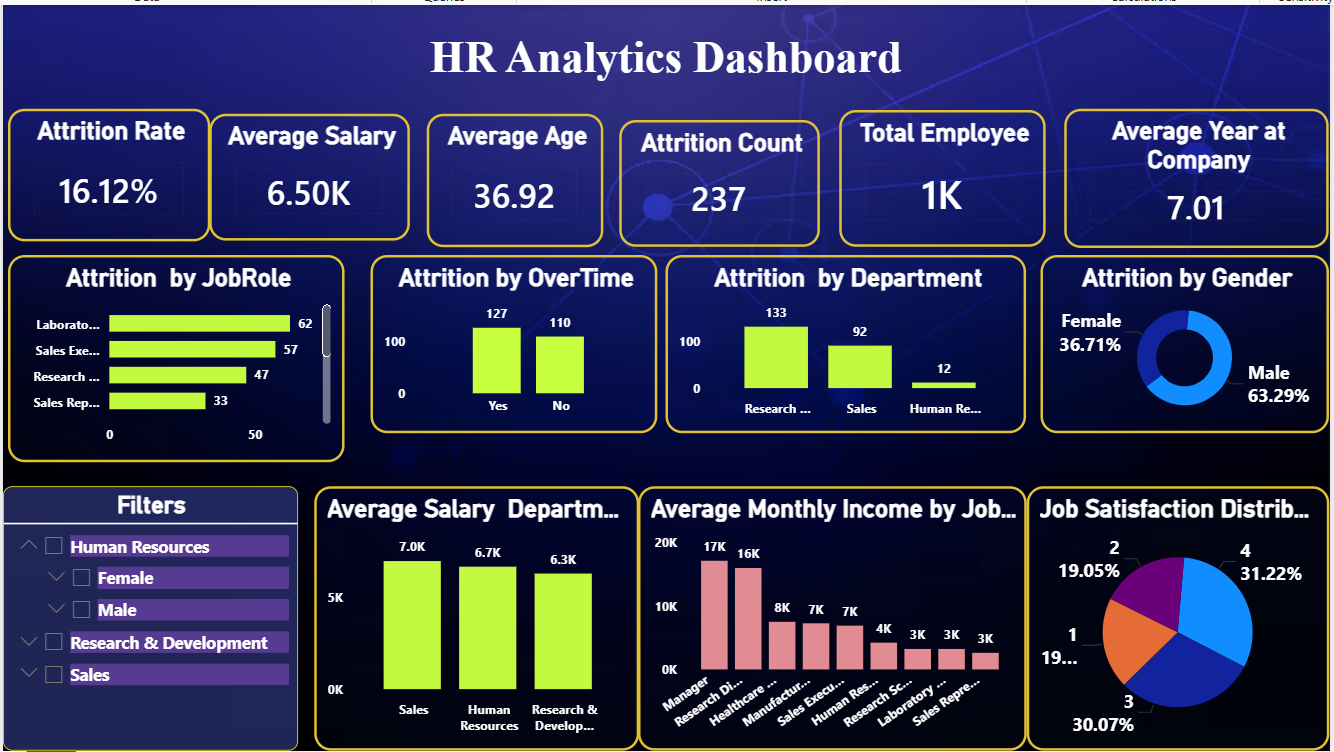

This screenshot's page, from the dashboard's own definition file:
{"tool":"powerbi","page":{"name":"Page 1","canvas":[1280,720],"ordinal":0},"visuals":[{"type":"cardVisual","title":"Total Employee","fields":{"Data":["hr_anlytics hr_analyst.Total Employee"]},"box":[807.7,101.7,199.5,132.4],"z":0},{"type":"cardVisual","title":"Attrition Rate","fields":{"Data":["hr_anlytics hr_analyst.Attrition Rate"]},"box":[5,100,195,128.3],"z":1},{"type":"cardVisual","title":"Attrition Count","fields":{"Data":["hr_anlytics hr_analyst.Attrition Count"]},"box":[594.7,111.3,193.8,122.8],"z":2},{"type":"cardVisual","title":"Average Salary","fields":{"Data":["hr_anlytics hr_analyst.Average Salary"]},"box":[199.5,105.5,193.8,122.8],"z":3},{"type":"cardVisual","title":"Average Age","fields":{"Data":["Avg(hr_anlytics hr_analyst.Age)"]},"box":[408.6,105.5,170.7,128.5],"z":4},{"type":"cardVisual","title":"Average Year  at Company","fields":{"Data":["Avg(hr_anlytics hr_analyst.YearsAtCompany)"]},"box":[1024.5,99.8,255.2,134.3],"z":5},{"type":"textbox","box":[0,21.1,1279.6,78.7],"z":6},{"type":"clusteredColumnChart","title":"Attrition  by Department","fields":{"Category":["hr_anlytics hr_analyst.Department"],"Y":["hr_anlytics hr_analyst.Attrition Count"]},"box":[640,241.7,348.3,171.7],"z":7},{"type":"donutChart","title":"Attrition by Gender","fields":{"Category":["hr_anlytics hr_analyst.Gender"],"Y":["hr_anlytics hr_analyst.Attrition Count"]},"box":[1001.7,241.7,278.3,171.7],"z":8},{"type":"clusteredBarChart","title":"Attrition  by JobRole","fields":{"Category":["hr_anlytics hr_analyst.JobRole"],"Y":["hr_anlytics hr_analyst.Attrition Count"]},"box":[5,241.7,325,200],"z":9},{"type":"columnChart","title":"Average Salary  Department","fields":{"Category":["hr_anlytics hr_analyst.Department"],"Y":["hr_anlytics hr_analyst.Average Salary"]},"box":[300,465,313.3,255],"z":10},{"type":"clusteredColumnChart","title":"Attrition by OverTime","fields":{"Category":["hr_anlytics hr_analyst.OverTime"],"Y":["hr_anlytics hr_analyst.Attrition Count"]},"box":[355,241.7,276.7,171.7],"z":11},{"type":"clusteredColumnChart","title":"Average Monthly Income by JobRole","fields":{"Category":["hr_anlytics hr_analyst.JobRole"],"Y":["Avg(hr_anlytics hr_analyst.MonthlyIncome)"]},"box":[613.3,465,375,255],"z":12},{"type":"slicer","title":"Filters","fields":{"Values":["hr_anlytics hr_analyst.Department","hr_anlytics hr_analyst.Gender","hr_anlytics hr_analyst.JobRole","hr_anlytics hr_analyst.EducationField","hr_anlytics hr_analyst.OverTime"]},"box":[0,465,285,255],"z":13},{"type":"pieChart","title":"Job Satisfaction Distribution","fields":{"Y":["Sum(hr_anlytics hr_analyst.EmployeeCount)"],"Category":["hr_anlytics hr_analyst.JobSatisfaction"]},"box":[988.3,465,291.7,255],"z":14}]}

Visuals, with their boxes in screenshot pixels (x1, y1, x2, y2), scaled from the page's 1280x720 canvas onto the 1334x752 screenshot:
"Total Employee" cardVisual: x1=842, y1=106, x2=1050, y2=245
"Attrition Rate" cardVisual: x1=5, y1=104, x2=208, y2=238
"Attrition Count" cardVisual: x1=620, y1=116, x2=822, y2=245
"Average Salary" cardVisual: x1=208, y1=110, x2=410, y2=238
"Average Age" cardVisual: x1=426, y1=110, x2=604, y2=244
"Average Year  at Company" cardVisual: x1=1068, y1=104, x2=1333, y2=245
textbox: x1=0, y1=22, x2=1333, y2=104
"Attrition  by Department" clusteredColumnChart: x1=667, y1=252, x2=1030, y2=432
"Attrition by Gender" donutChart: x1=1044, y1=252, x2=1333, y2=432
"Attrition  by JobRole" clusteredBarChart: x1=5, y1=252, x2=344, y2=461
"Average Salary  Department" columnChart: x1=313, y1=486, x2=639, y2=751
"Attrition by OverTime" clusteredColumnChart: x1=370, y1=252, x2=658, y2=432
"Average Monthly Income by JobRole" clusteredColumnChart: x1=639, y1=486, x2=1030, y2=751
"Filters" slicer: x1=0, y1=486, x2=297, y2=751
"Job Satisfaction Distribution" pieChart: x1=1030, y1=486, x2=1333, y2=751
